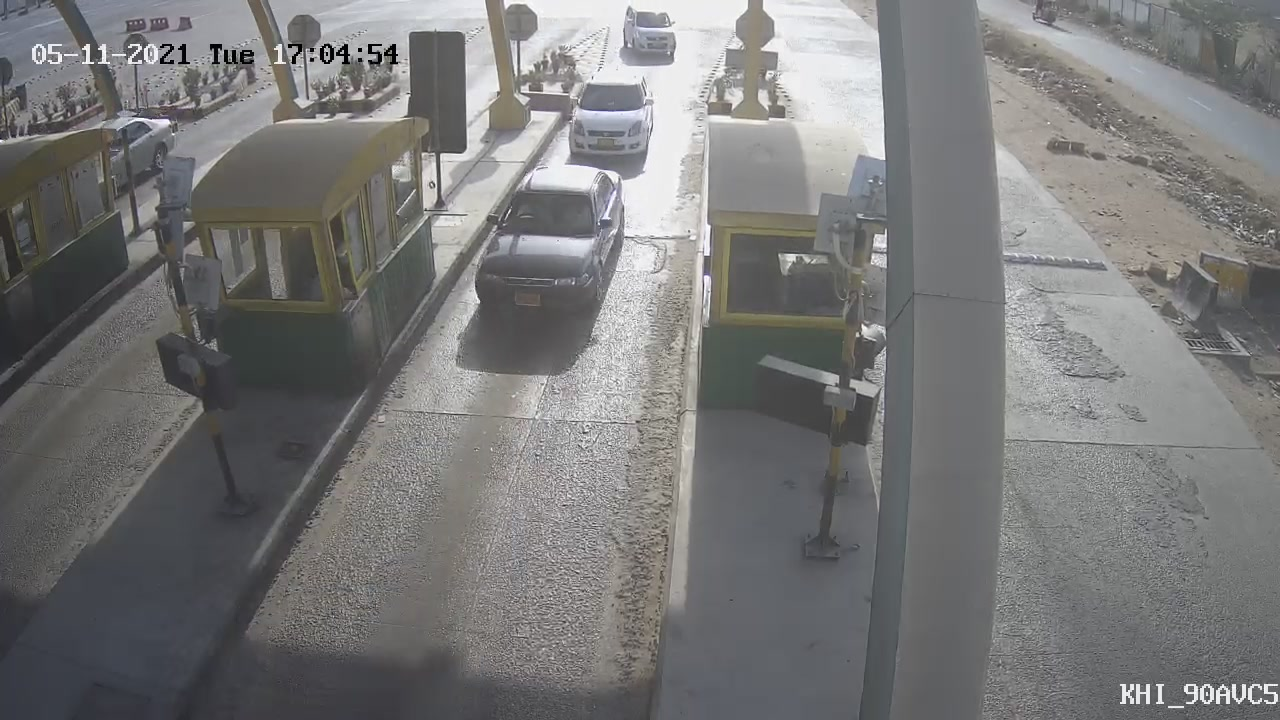F1: (457, 151, 638, 335), (553, 60, 665, 170)
